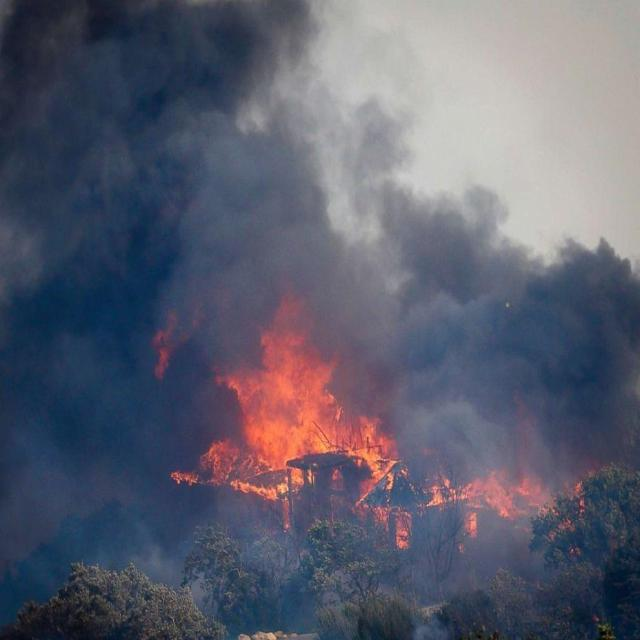Fire: (159, 300, 567, 513)
Smoke: (1, 1, 178, 353)
